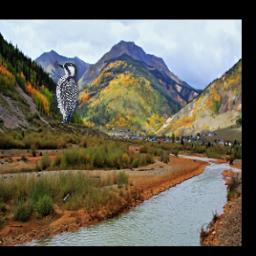Woodpecker: (51, 59, 78, 123)
